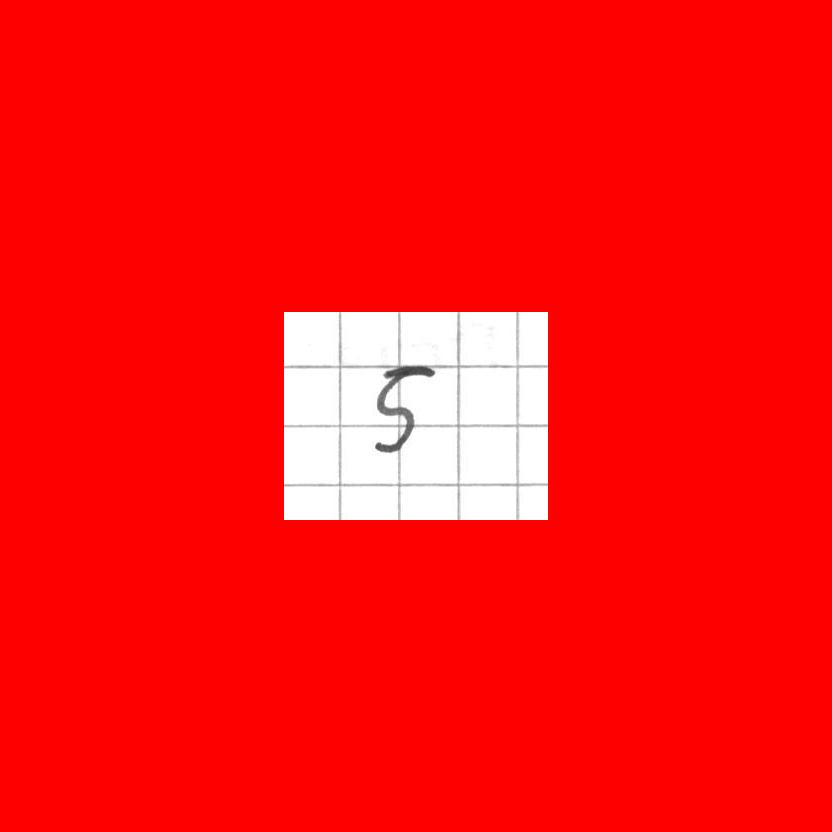Char: (353, 348, 450, 464)
